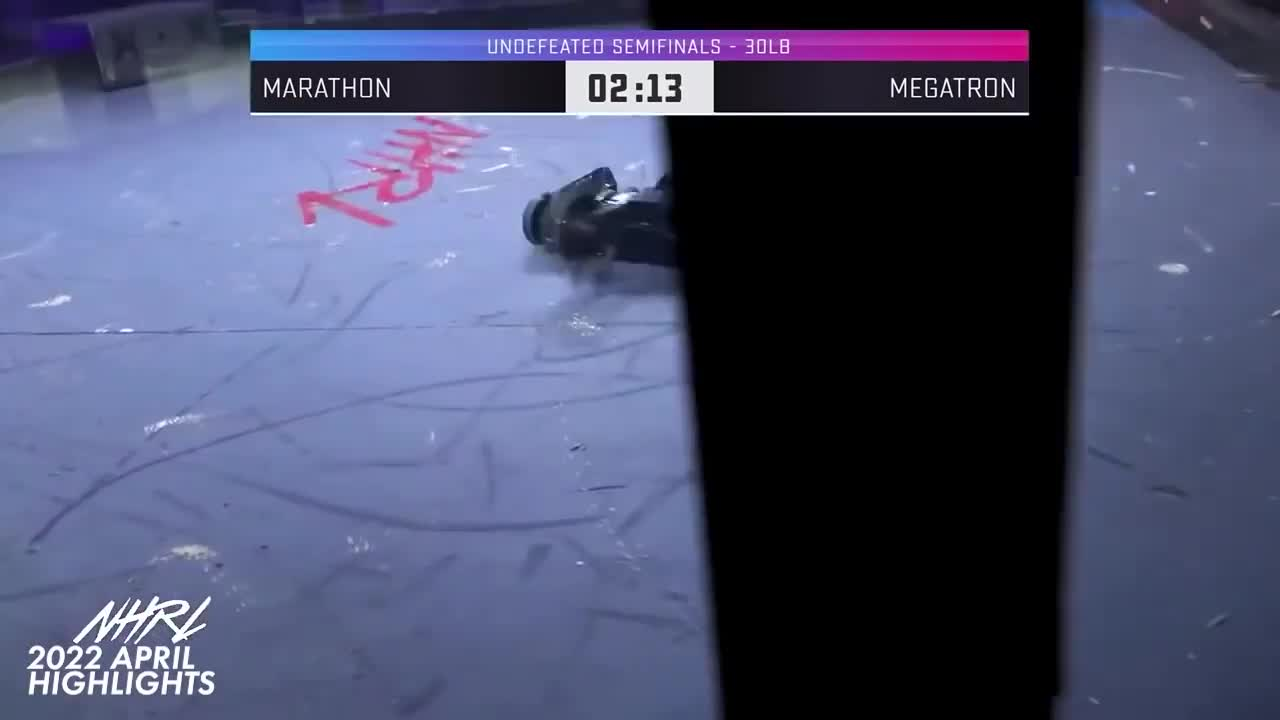combatbot: (522, 166, 675, 268)
housebot: (42, 4, 207, 95)
